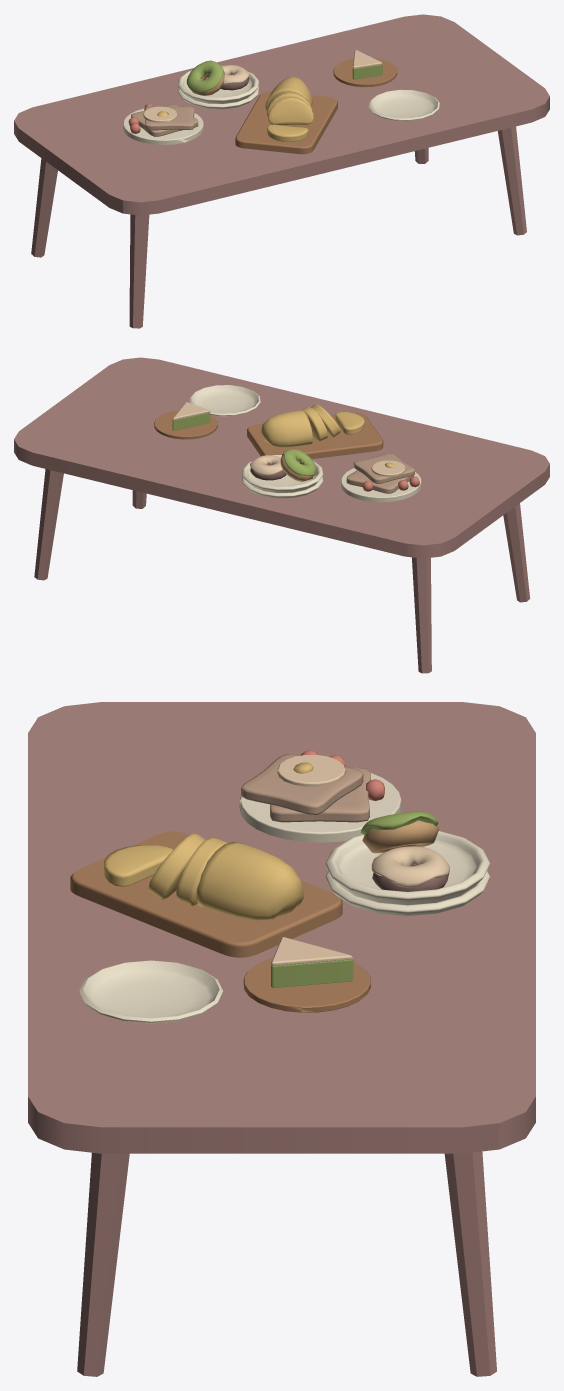
The model's file is dinning-table-transformed.glb.
3 renders of one model, top to bottom at view 1: azimuth 30°, elevation 25°; view 2: azimuth 150°, elevation 25°; view 3: azimuth 270°, elevation 25°, orthographic. The views are drawn at different scales.
Parts seen in each view (by area): view 1: Rectangle 8.001, Merged Geometry.023, Rectangle.002, Merged Geometry.024, plate, Merged Geometry.022, Cylinder 34, Cylinder 34.001, Torus 2.001, Cube 5.006, Cylinder 35, Torus 3 (+1 smaller); view 2: Rectangle 8.001, Merged Geometry.023, Merged Geometry.024, Rectangle.002, plate, Merged Geometry.022, Cylinder 34, Cylinder 34.001, Cube 5.006, Torus 2.001, Cube 4.005, Torus 3 (+2 smaller); view 3: Rectangle 8.001, Merged Geometry.023, Merged Geometry.024, Rectangle.002, Merged Geometry.022, plate, Cylinder 34.001, Cylinder 34, Cube 5.006, Torus 3, Cube 4.005, Triangle (+4 smaller).
Boxes of the visible parts, x1,y1,x2,y2 form: Rectangle 8.001: (14, 14, 549, 215); Merged Geometry.023: (31, 126, 526, 328); Rectangle.002: (235, 91, 337, 154); Merged Geometry.024: (265, 76, 313, 141); plate: (368, 89, 439, 120); Merged Geometry.022: (177, 65, 258, 109); Cylinder 34: (123, 108, 203, 144); Cylinder 34.001: (333, 58, 397, 87); Torus 2.001: (186, 60, 223, 93); Cube 5.006: (145, 106, 194, 130); Cylinder 35: (143, 106, 177, 122); Torus 3: (222, 65, 249, 84); Rectangle 8.001: (14, 357, 549, 558); Merged Geometry.023: (34, 469, 530, 673); Merged Geometry.024: (261, 404, 364, 447); Rectangle.002: (247, 412, 383, 459); plate: (189, 385, 260, 416); Merged Geometry.022: (242, 455, 323, 498); Cylinder 34: (340, 468, 421, 502); Cylinder 34.001: (154, 410, 217, 439); Cube 5.006: (353, 453, 414, 483); Torus 2.001: (283, 449, 316, 476); Cube 4.005: (346, 470, 413, 493); Torus 3: (250, 455, 282, 475); Rectangle 8.001: (28, 702, 535, 1153); Merged Geometry.023: (77, 1151, 496, 1376); Merged Geometry.024: (104, 833, 303, 920); Rectangle.002: (70, 831, 342, 957); Merged Geometry.022: (325, 831, 490, 915); plate: (79, 960, 223, 1023); Cylinder 34.001: (243, 958, 370, 1012); Cylinder 34: (239, 773, 401, 842); Cube 5.006: (241, 754, 363, 814); Torus 3: (371, 846, 449, 887); Cube 4.005: (270, 767, 370, 822); Triangle: (271, 959, 353, 987).
Bounding box in the file's own units: 2.76 × 1.02 × 1.39.
